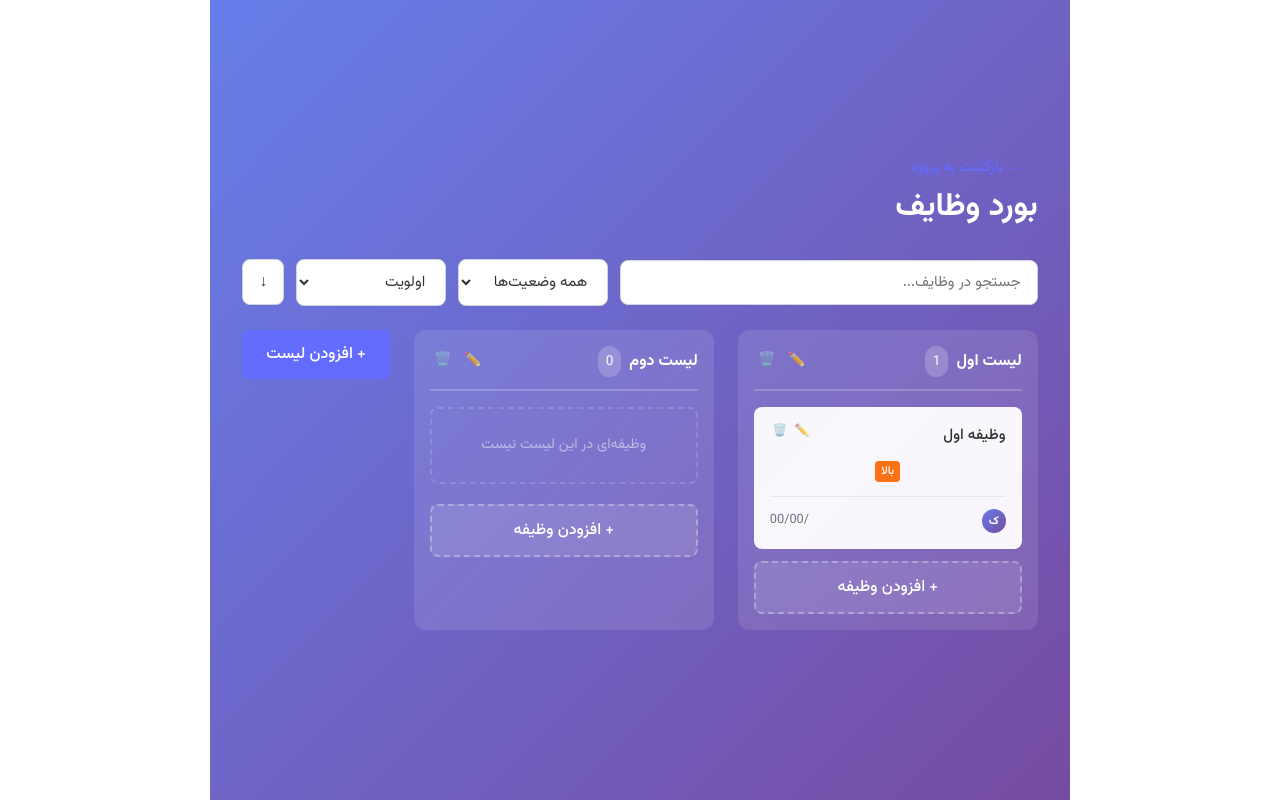
Test: TaskBoard › Edit list › opens edit list modal with pre-filled name
This screenshot has width=1280, height=800.
Expected: the heading "لیست اول" is shown, [956,348,1022,375]
Click the button "✏️" in the row of "لیست اول". click: [797, 362]
box: [784,350,810,373]
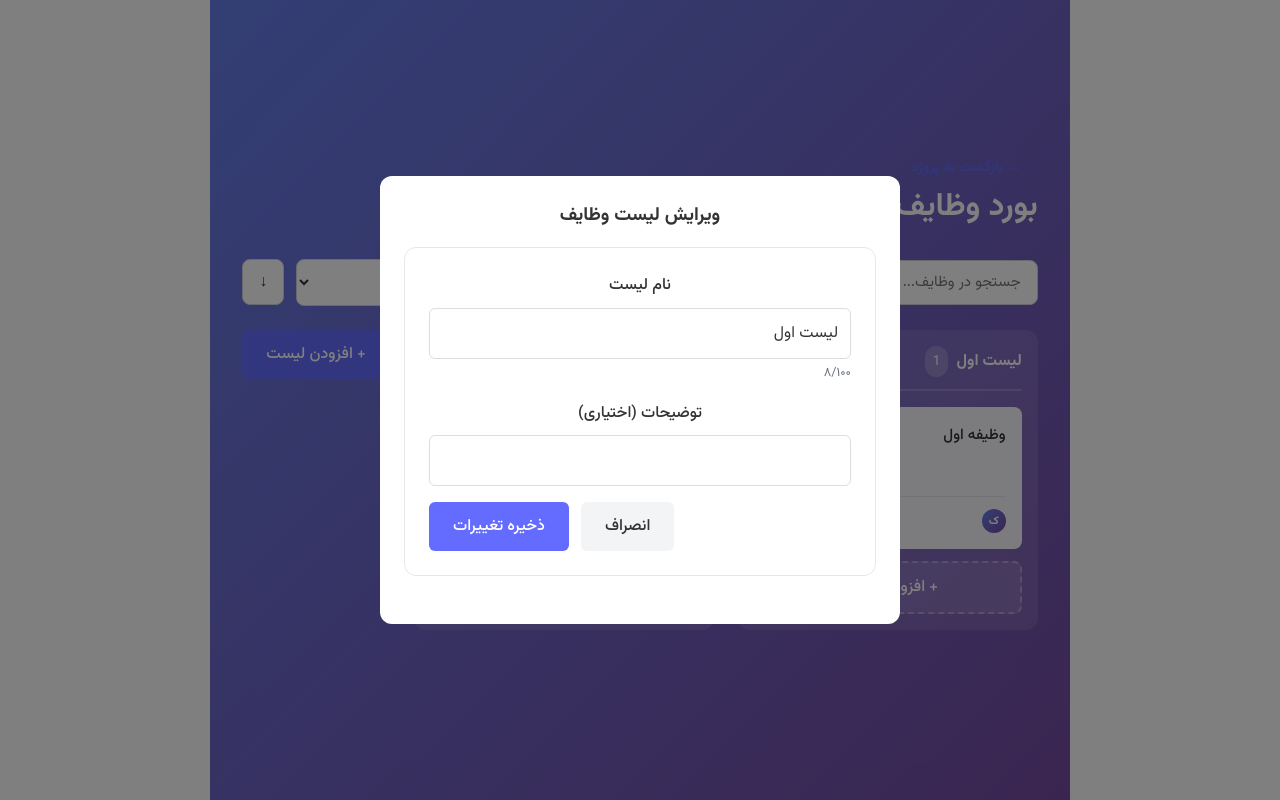
Now the heading "ویرایش لیست وظایف" is shown, box [560,200,720,230]
Now the field showing "لیست اول" below "نام لیست" is shown, box [429,308,851,358]
